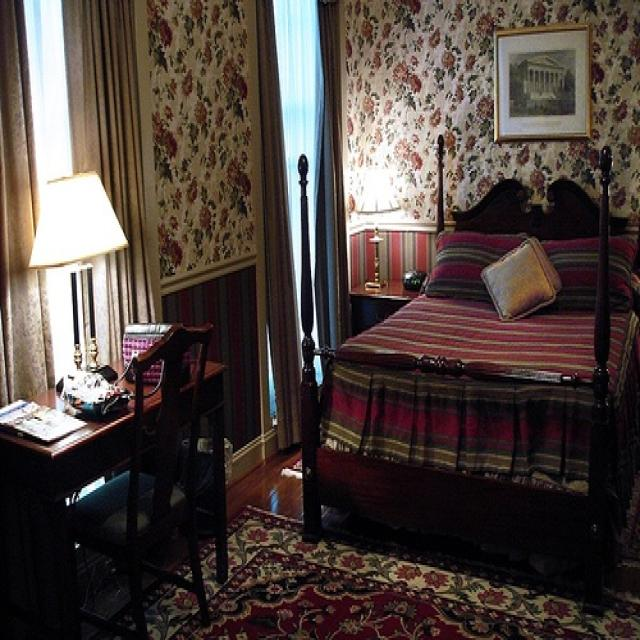chair: (66, 317, 212, 636)
